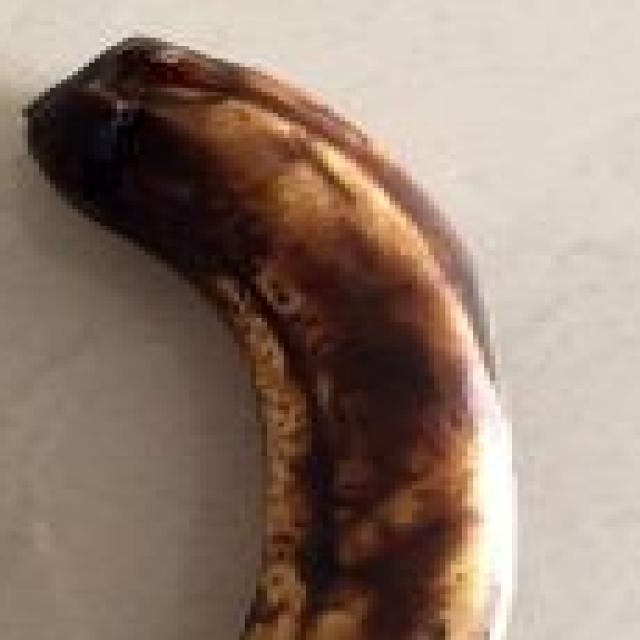Bad_Banana-0 day: (28, 38, 512, 640)
